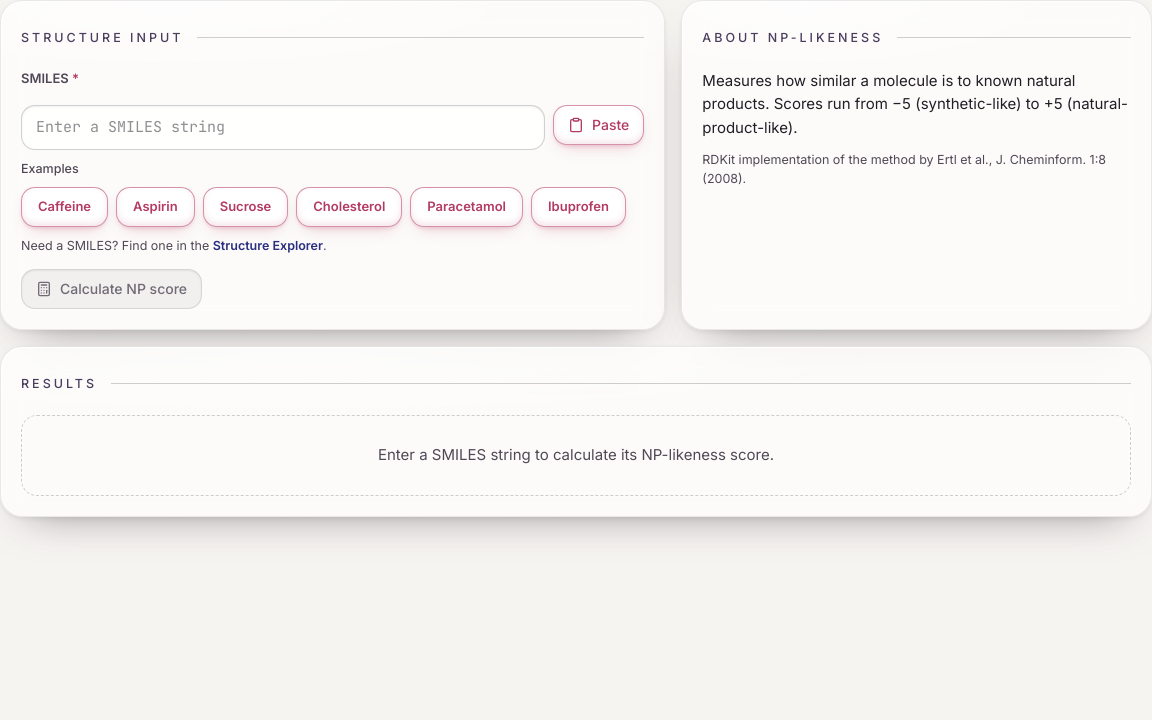
NPlikenessView (bento) › shows the score and its reading in the results panel
Type "CCO" into the field labelled "SMILES *".
click(283, 127); type("CCO")  # box left=21, top=104, right=545, bottom=150
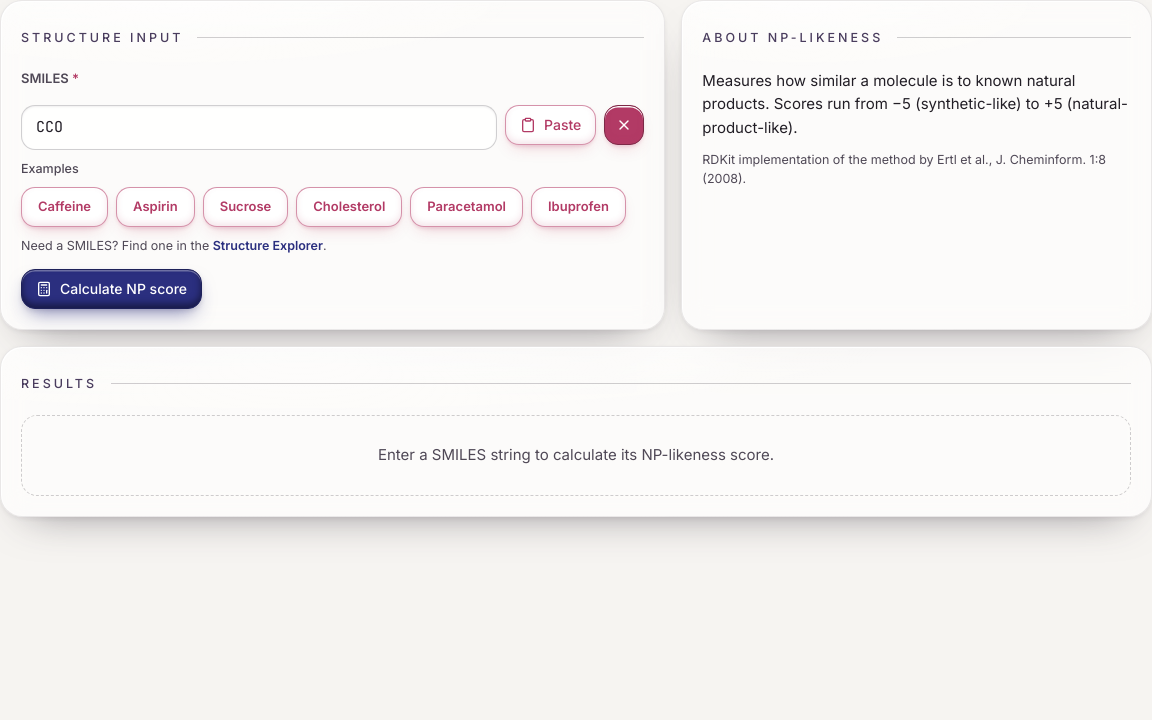
Click the button "Calculate NP score".
click(112, 289)  # box left=21, top=269, right=202, bottom=309
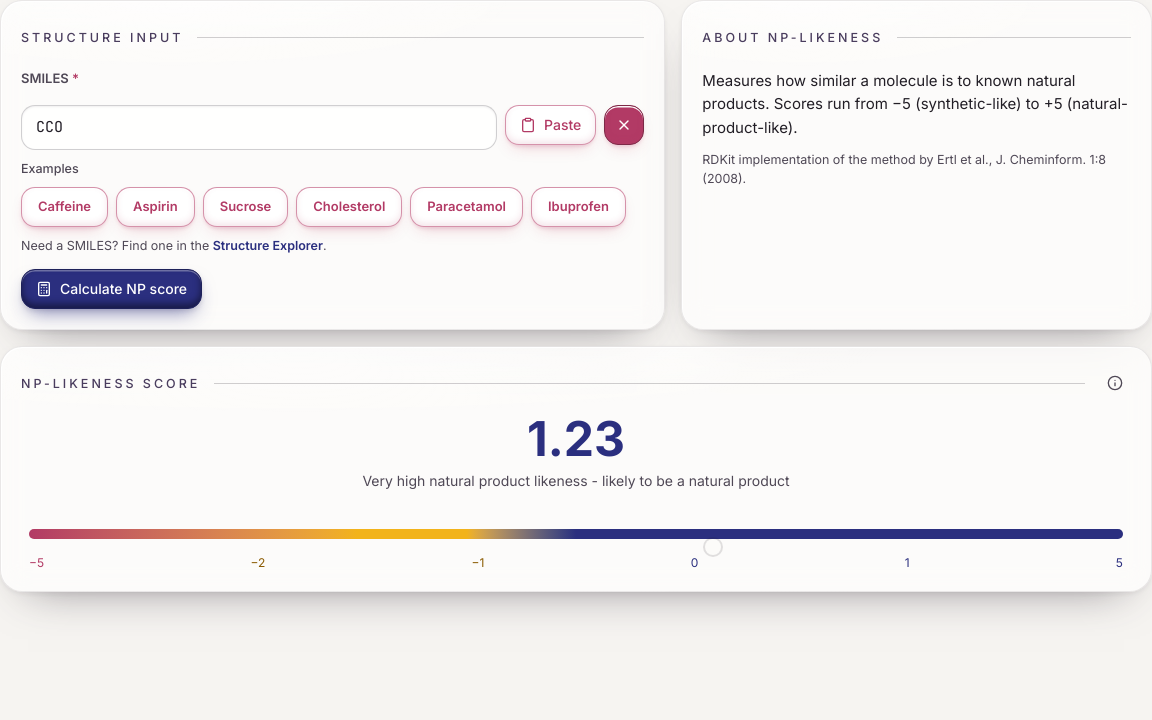
Expected: the text "1.23" is shown, left=527, top=409, right=625, bottom=468
Expected: the text "Very high natural product likeness" is shown, left=362, top=472, right=790, bottom=489
